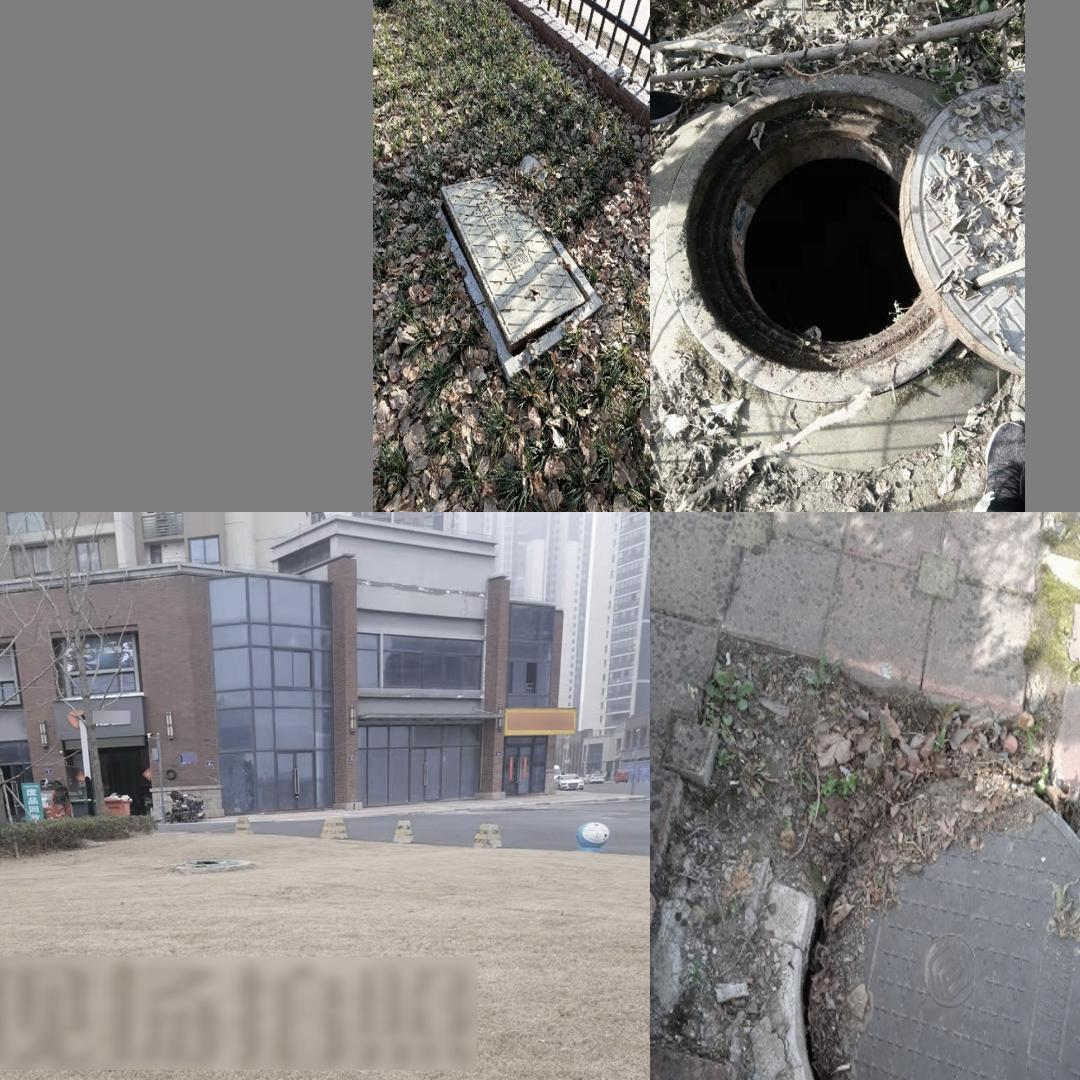uncovered: (664, 75, 1021, 404), (786, 751, 1080, 1080), (434, 169, 598, 352)
